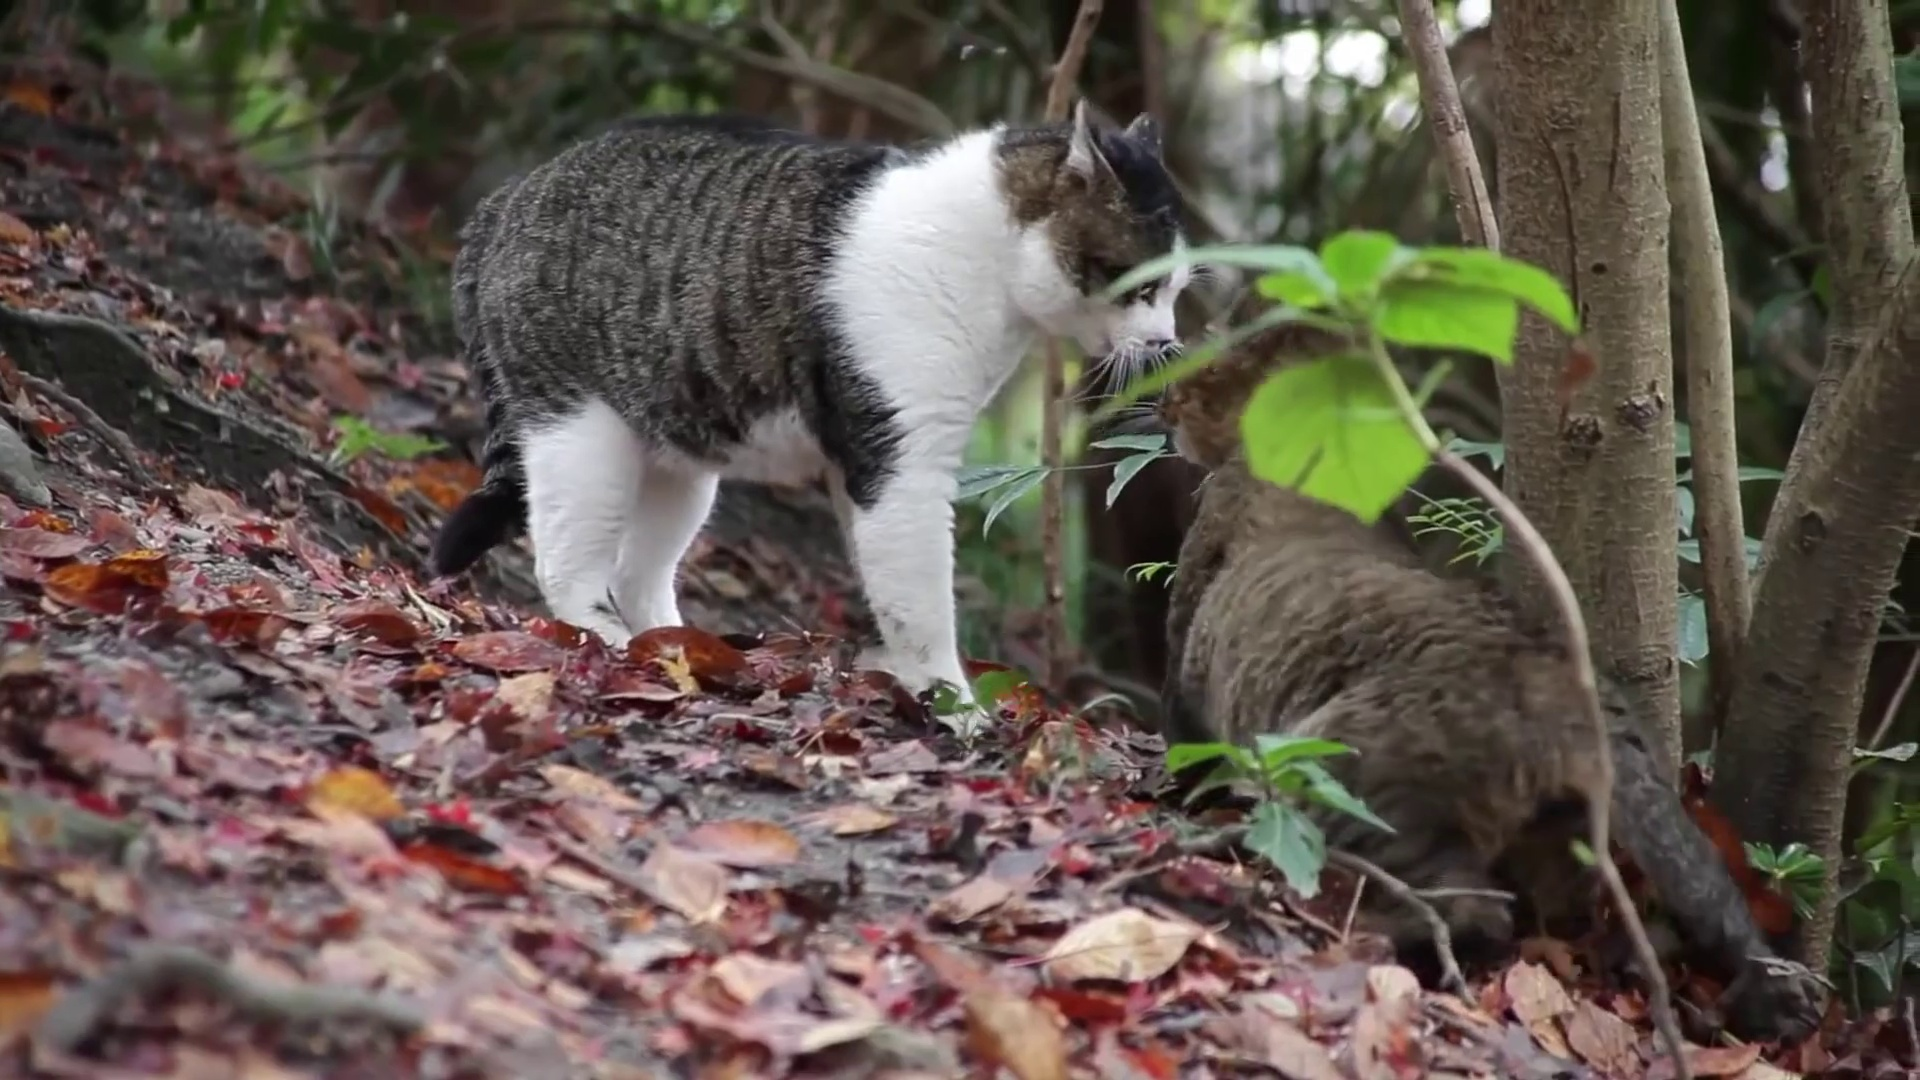black-white: (434, 98, 1193, 738)
pure black: (1160, 310, 1629, 960)
